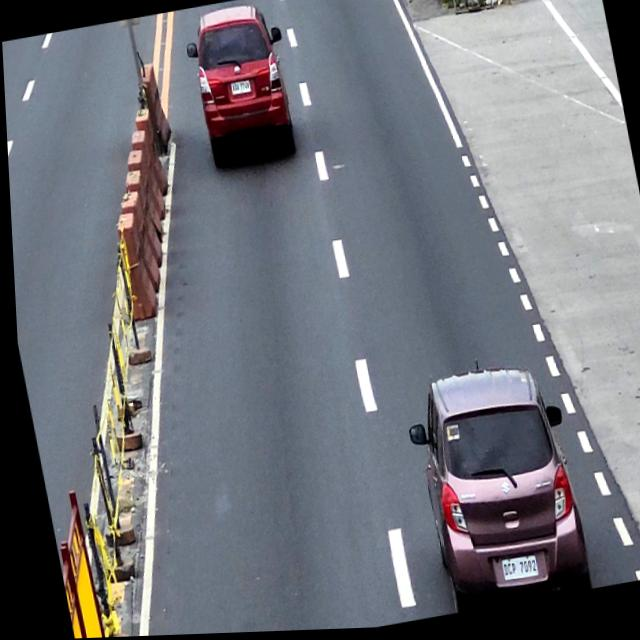Car: (394, 361, 589, 619), (180, 1, 305, 175)
License-Plate: (494, 557, 533, 586), (229, 81, 251, 96)
